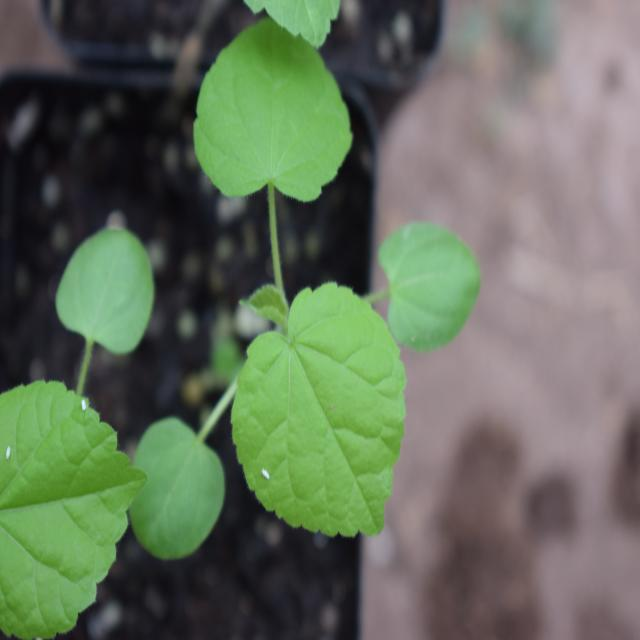abutilon theophrasti: (130, 38, 482, 584)
